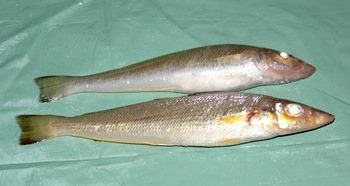kiss: (11, 90, 342, 151), (29, 39, 320, 101)
